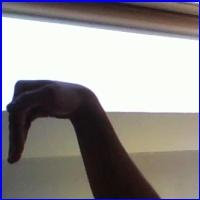A: (3, 73, 102, 168)
